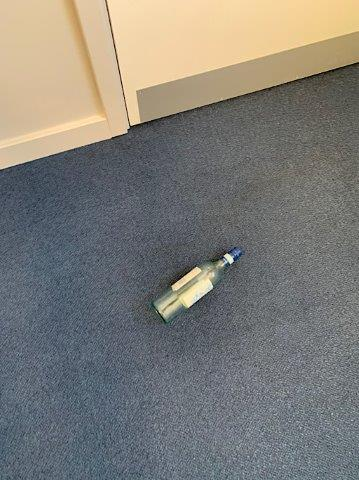botolkaca: (151, 248, 242, 322)
